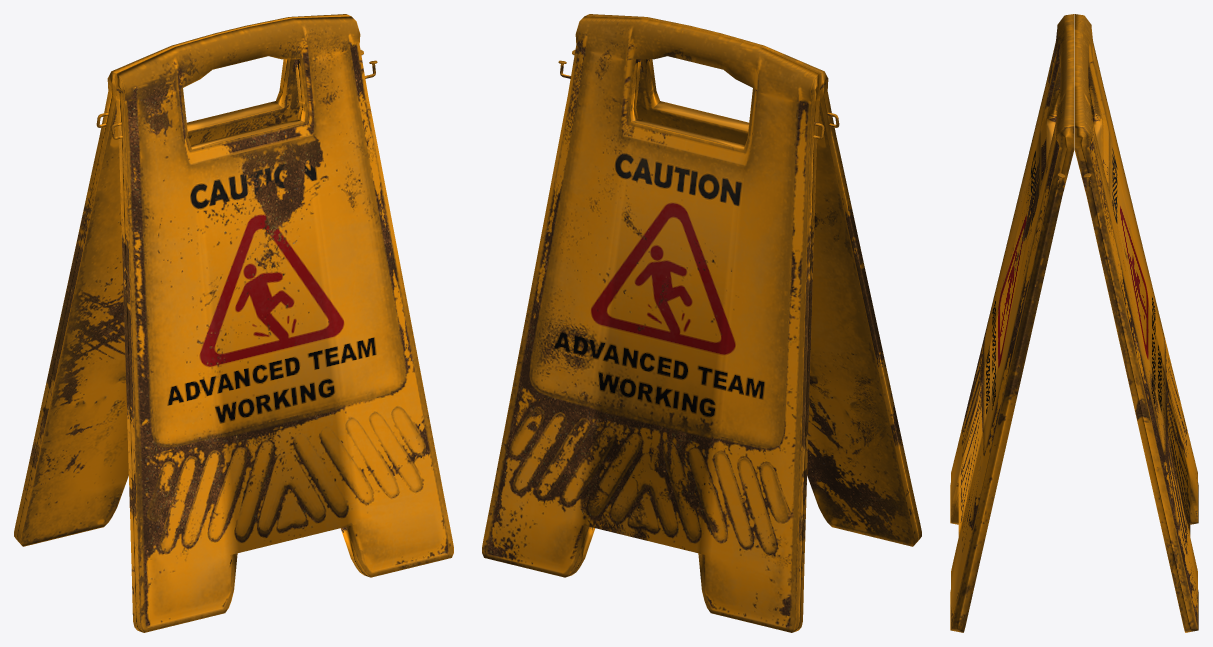
File: warning-2.glb
3 views of the same model, side by side, from view 1: azimuth 30°, elevation 25°; view 2: azimuth 150°, elevation 25°; view 3: azimuth 270°, elevation 25° (orthographic). The views are drawn at different scales.
Visible parts, largest first — view 1: Warning_Sign_Board_Low_Poly; view 2: Warning_Sign_Board_Low_Poly; view 3: Warning_Sign_Board_Low_Poly.
Boxes of the visible parts, x1=… form: Warning_Sign_Board_Low_Poly: x1=14, y1=14, x2=453, y2=632; Warning_Sign_Board_Low_Poly: x1=482, y1=14, x2=921, y2=632; Warning_Sign_Board_Low_Poly: x1=950, y1=14, x2=1198, y2=632.
Bounding box in the file's own units: 2.64 × 4.17 × 1.86.
1 material, 1 textured.
